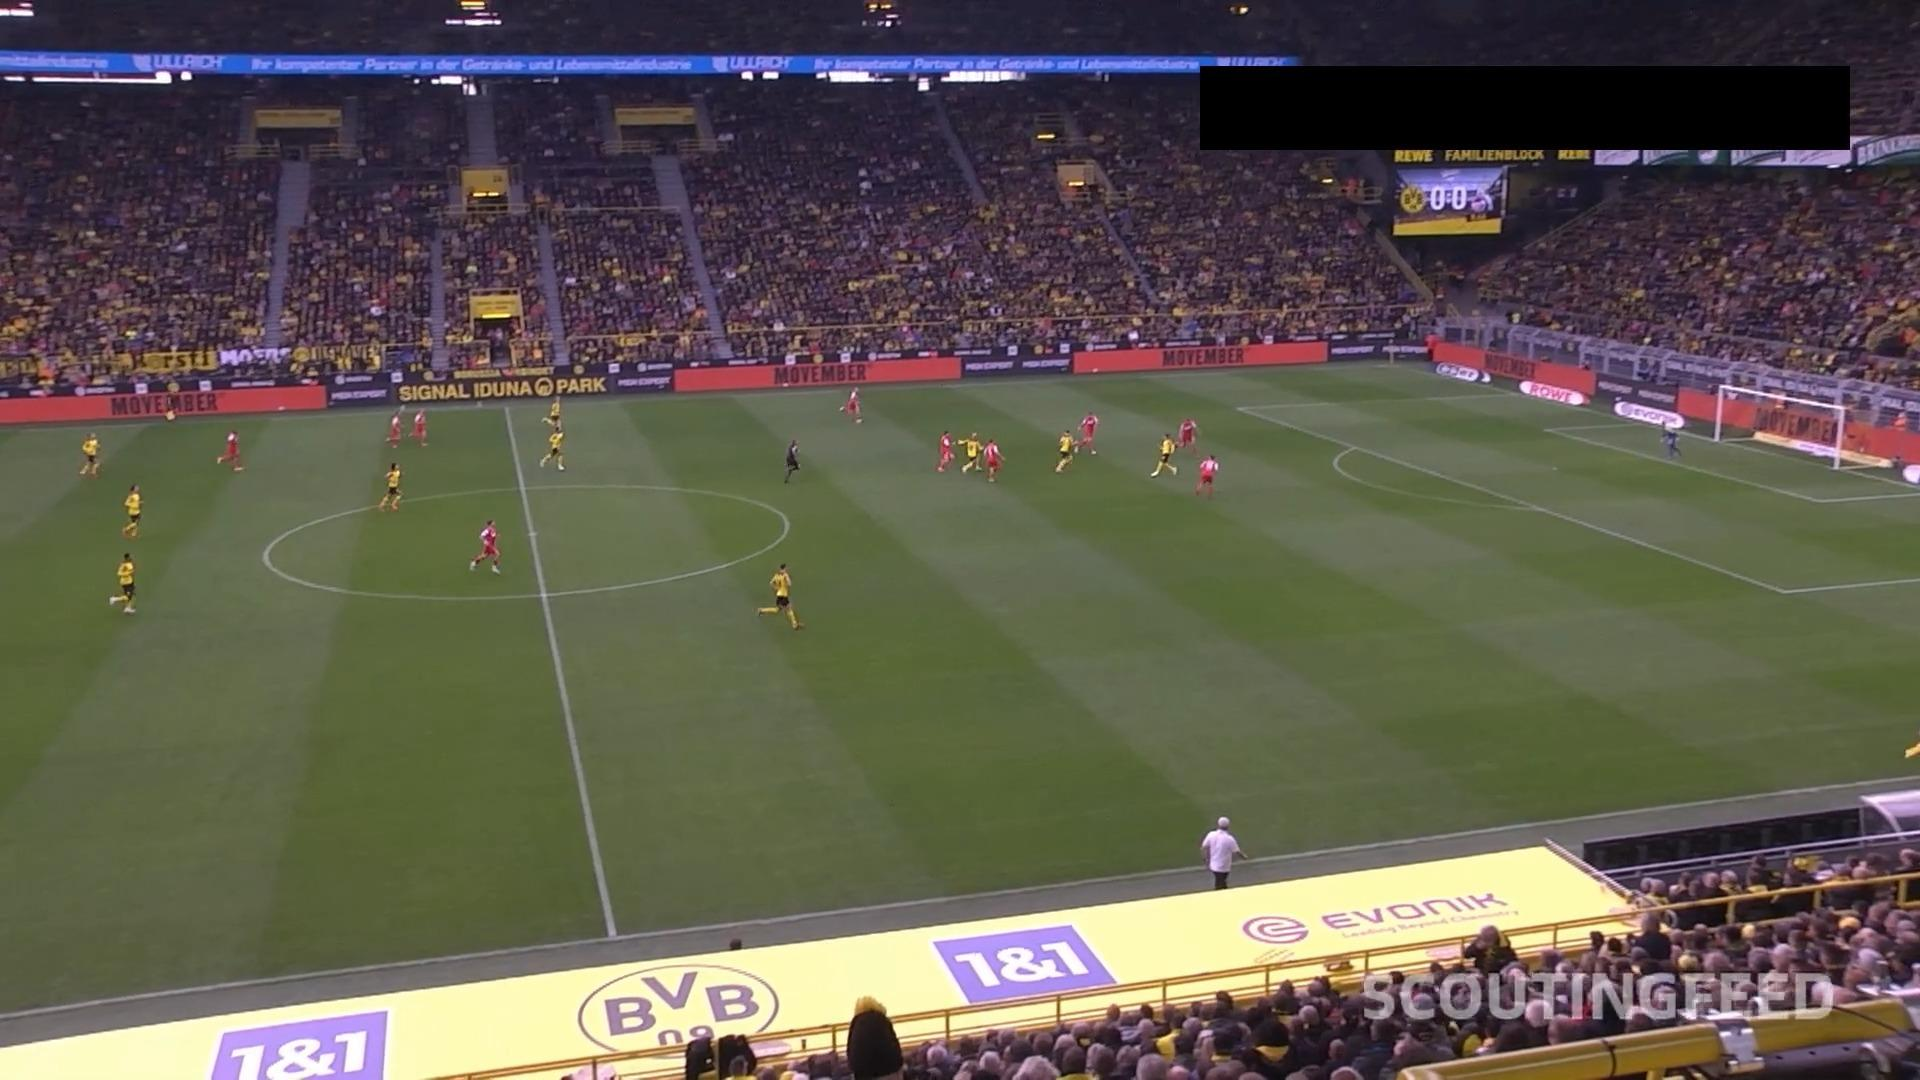coach: (1199, 814, 1248, 890)
fan: (684, 1025, 758, 1078)
player: (755, 562, 802, 630), (468, 518, 501, 574), (109, 551, 137, 613), (377, 460, 403, 511), (1149, 432, 1178, 477), (538, 424, 565, 470), (216, 429, 244, 472), (121, 482, 142, 537), (1659, 412, 1683, 458), (77, 431, 101, 476), (1053, 429, 1077, 473), (957, 431, 982, 473), (1194, 453, 1218, 496), (982, 436, 1004, 482), (1076, 411, 1099, 455), (1176, 415, 1199, 455), (934, 429, 955, 472), (839, 386, 862, 424), (541, 397, 562, 429), (410, 409, 428, 446), (384, 413, 403, 448)
referee: (783, 437, 800, 483), (163, 389, 179, 422)
